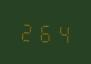four: (53, 20, 69, 45)
six: (36, 19, 52, 44)
two: (18, 18, 34, 43)
